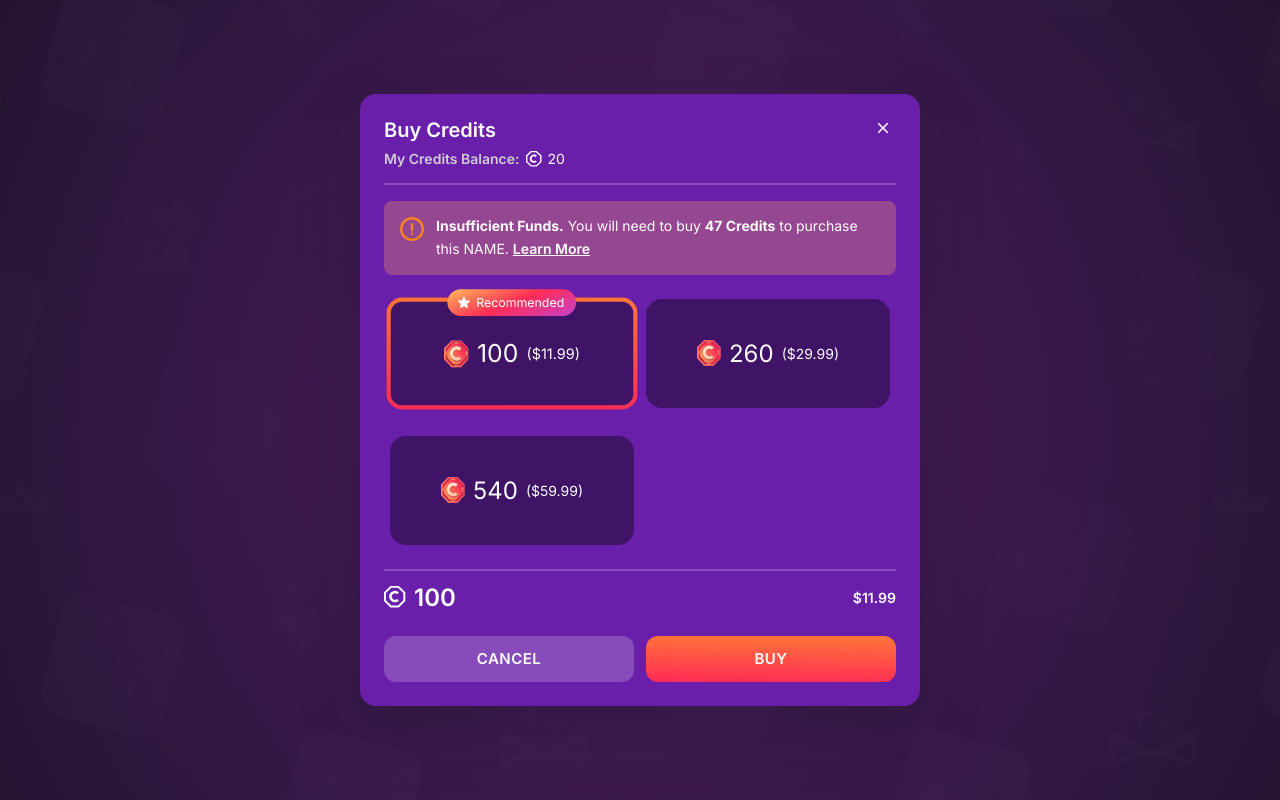
it: NameBuyModal › and the buyer cannot afford the NAME yet › should stash the NAME and start the checkout for the chosen pack
What coordinates should you click on to do the following:
click the button with test id "name-buy-credits"
I would click on:
 (771, 659)
Its box is [646,636,896,682].
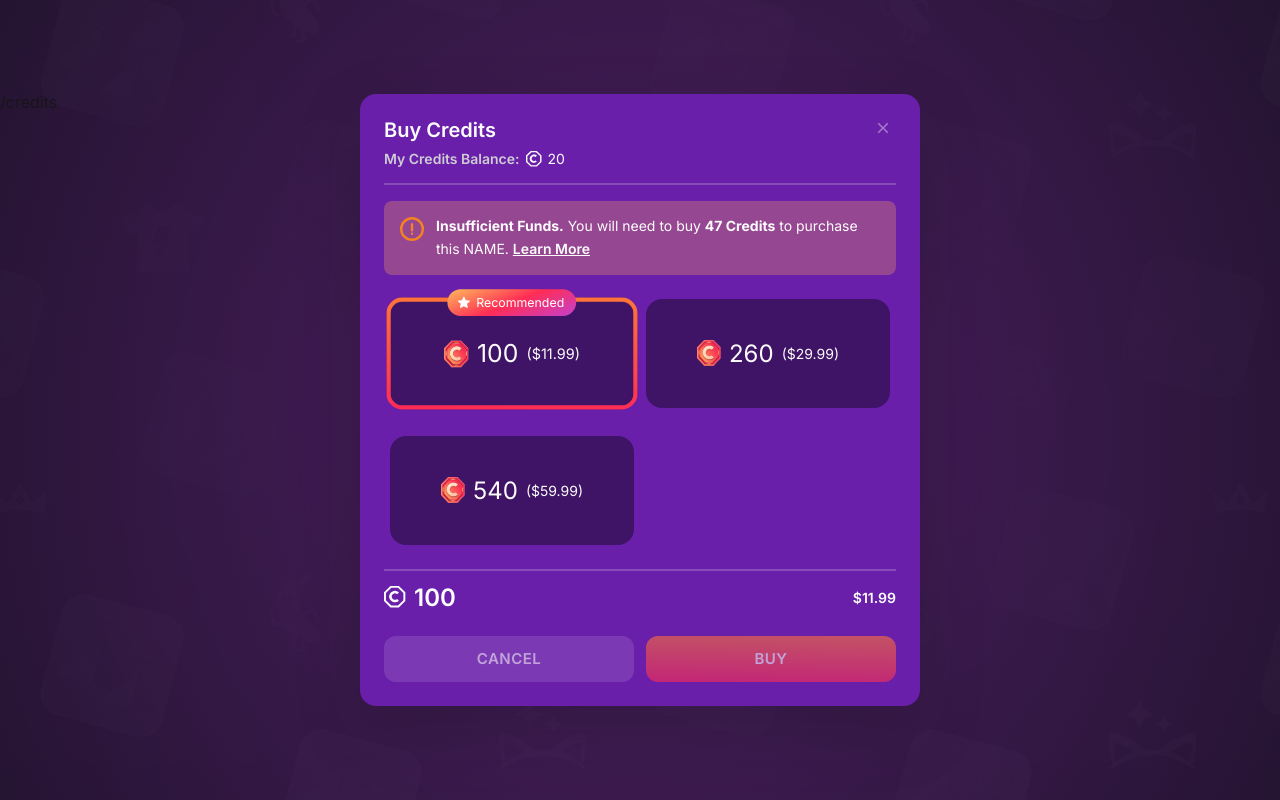
Expected: the text with test id "location" reads "/credits", [0,92,57,112]
